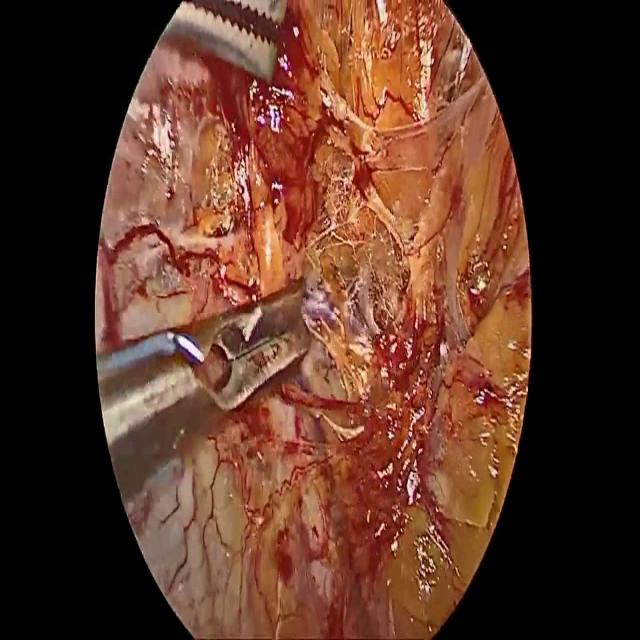surgical-area: (94, 0, 532, 639)
surgical-tool: (97, 279, 311, 449), (160, 0, 276, 88), (223, 0, 287, 25)
